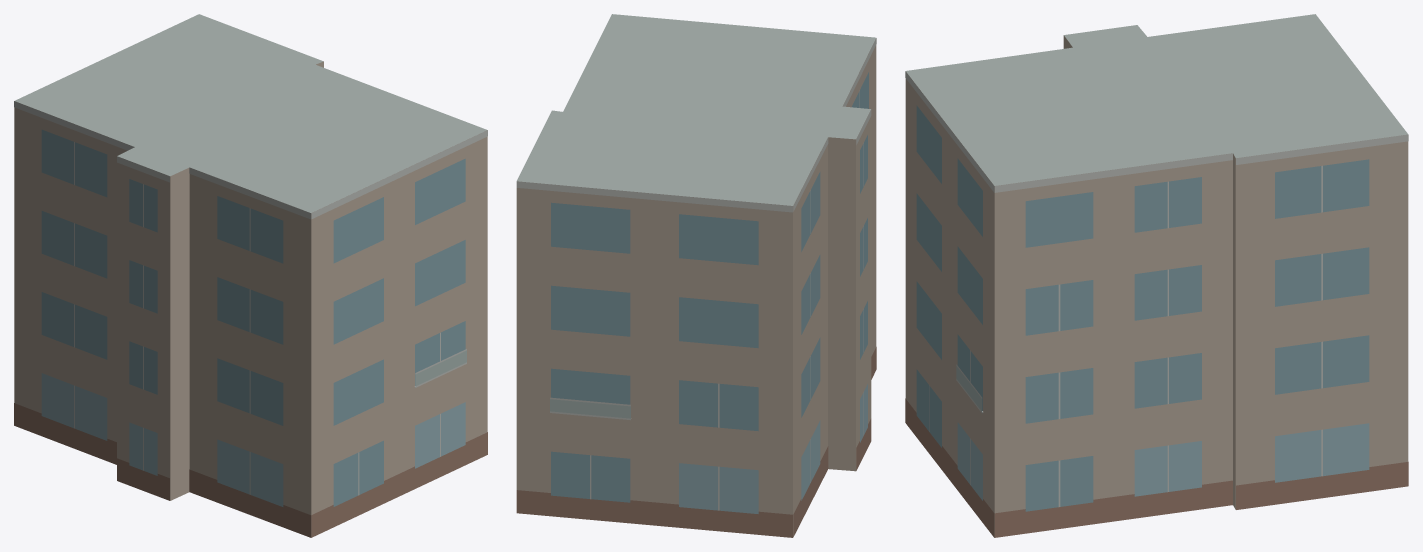
Rendered from survey-upis-32610666.glb.
3 renders of one model, left to right at view 1: azimuth 30°, elevation 25°; view 2: azimuth 150°, elevation 25°; view 3: azimuth 270°, elevation 25°, orthographic. The views are drawn at different scales.
Parts seen in each view (by area): view 1: survey-upis-32610666.tmp; view 2: survey-upis-32610666.tmp; view 3: survey-upis-32610666.tmp.
Part boxes in pixels (x1,y1,x2,y2): survey-upis-32610666.tmp: (14,14,487,537); survey-upis-32610666.tmp: (516,14,876,537); survey-upis-32610666.tmp: (905,14,1408,537).
Bounding box in the file's own units: 13.01 × 12.4 × 16.08.
